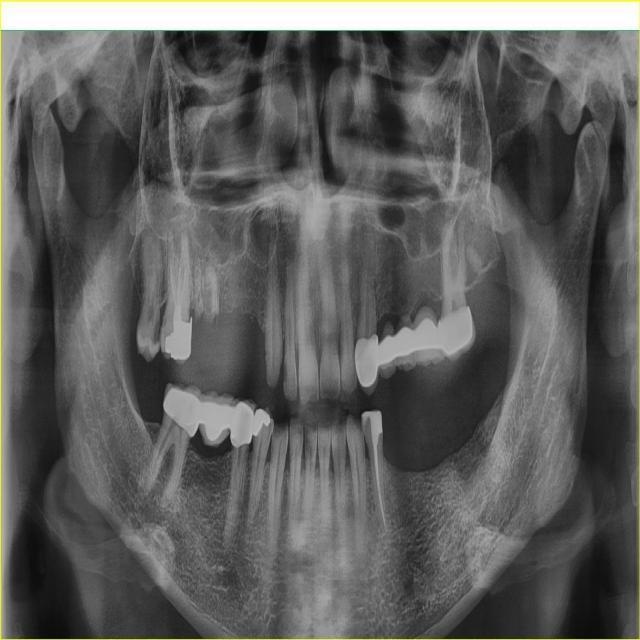Caries: (153, 310, 160, 344), (283, 363, 288, 383), (161, 313, 166, 329)
Crown: (163, 382, 201, 437), (198, 390, 234, 448), (412, 305, 444, 366), (439, 306, 475, 359), (355, 334, 379, 395), (394, 315, 416, 373), (230, 399, 255, 448), (378, 320, 398, 379)
Filling: (165, 306, 192, 360), (361, 410, 382, 448), (252, 408, 270, 438)
Missing teeth: (383, 403, 476, 473), (219, 312, 266, 381)
Periapical lesion: (176, 223, 192, 258), (135, 473, 153, 502), (245, 509, 263, 533), (158, 498, 172, 510)
Root Canal Treatment: (373, 445, 384, 520), (169, 257, 176, 306), (178, 266, 186, 308), (176, 267, 182, 306)
Root Piece: (204, 264, 220, 324), (193, 258, 205, 319), (466, 244, 483, 273)
